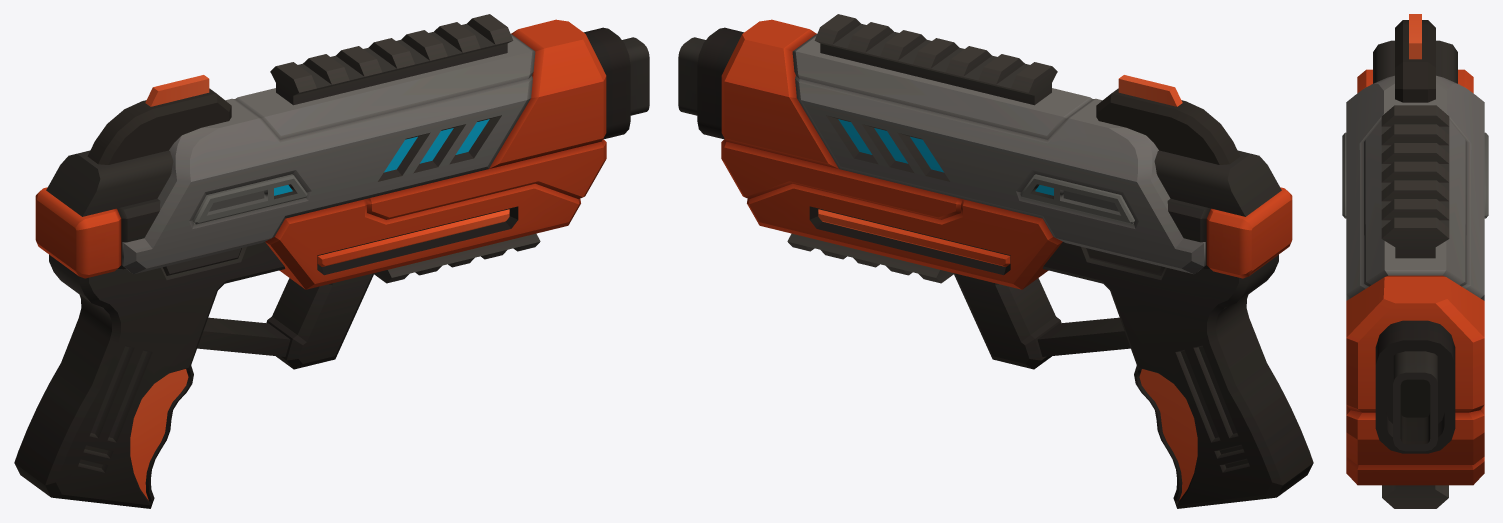
The model's file is Pistol3_Base.fbx.
The picture shows the model from 3 angles, left to right: view 1: azimuth 30°, elevation 25°; view 2: azimuth 150°, elevation 25°; view 3: azimuth 270°, elevation 25°; orthographic projection. The views are drawn at different scales.
Parts seen in each view (by area): view 1: Pistol3_Base; view 2: Pistol3_Base; view 3: Pistol3_Base.
Part boxes in pixels (x1,y1,x2,y2): Pistol3_Base: [14, 14, 649, 508]; Pistol3_Base: [678, 14, 1313, 508]; Pistol3_Base: [1342, 14, 1488, 508].
Size of the model in its own units: 31.85 by 20.12 by 5.66.
